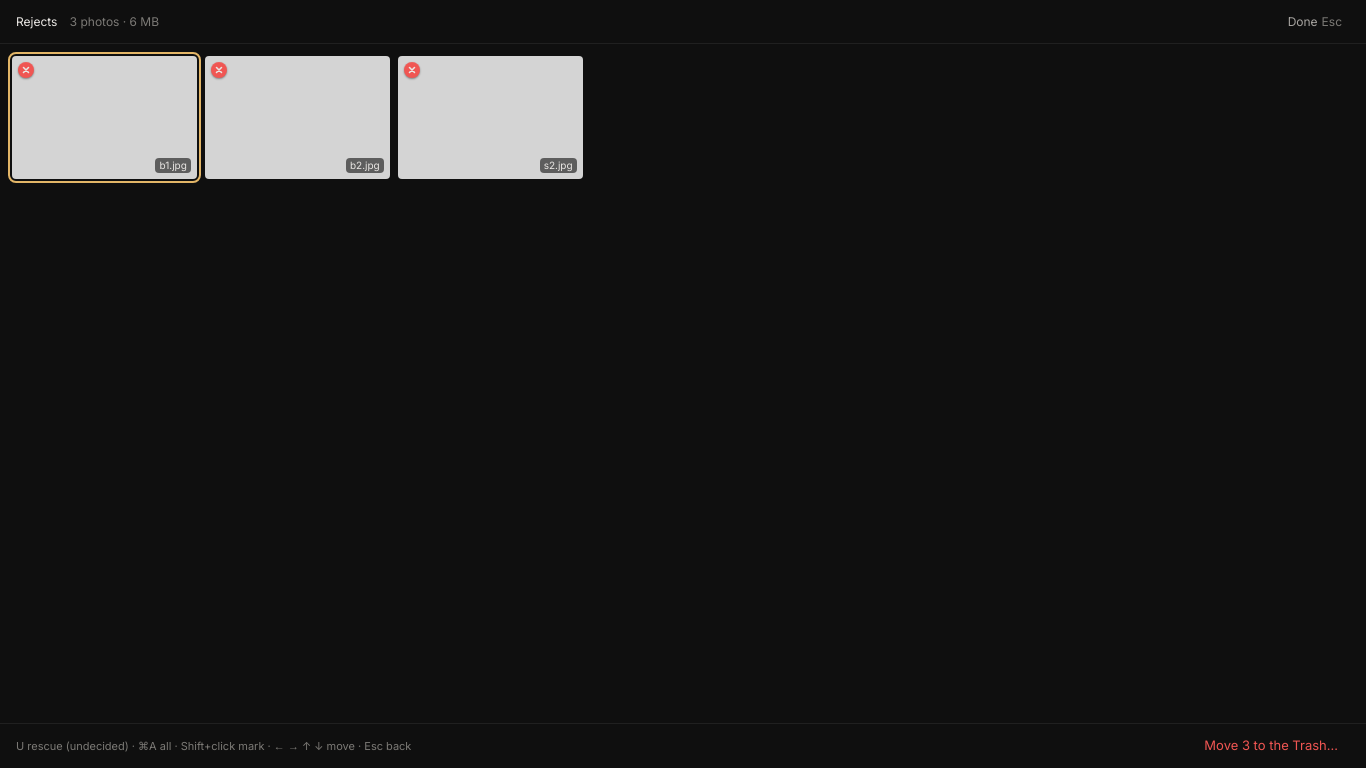
Test: the reject pile › keeps everything when the project list cannot be read
Click the button "Move 3 to the Trash…" at coordinates (1271, 746), box [1192,732,1350,760]
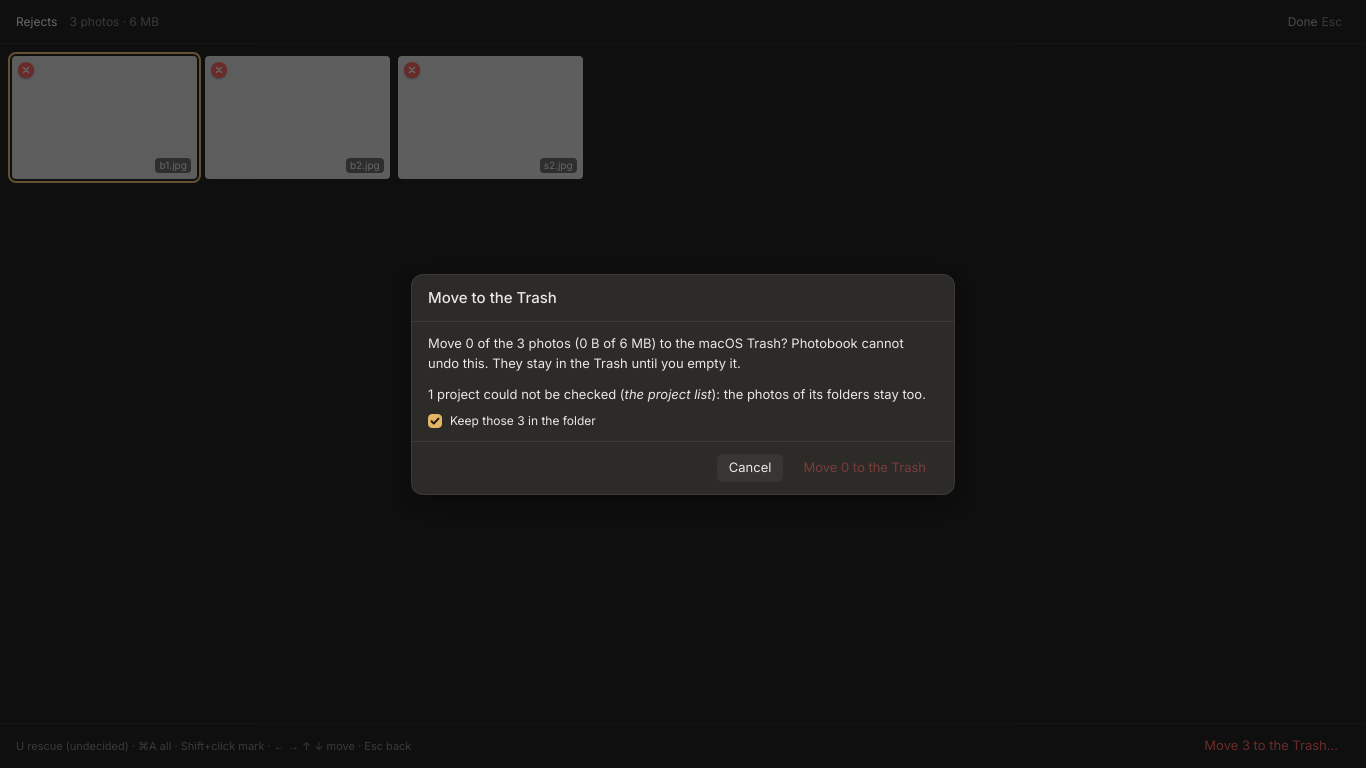
Expected: the dialog "Move to the Trash" shows "1 project could not be checked (the project list)", [411,274,955,494]
Expected: the button "Move 0 to the Trash" is shown, [791,454,938,482]
